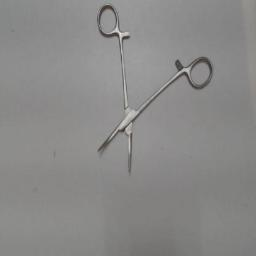Crile Artery Forceps: (92, 0, 216, 176)
